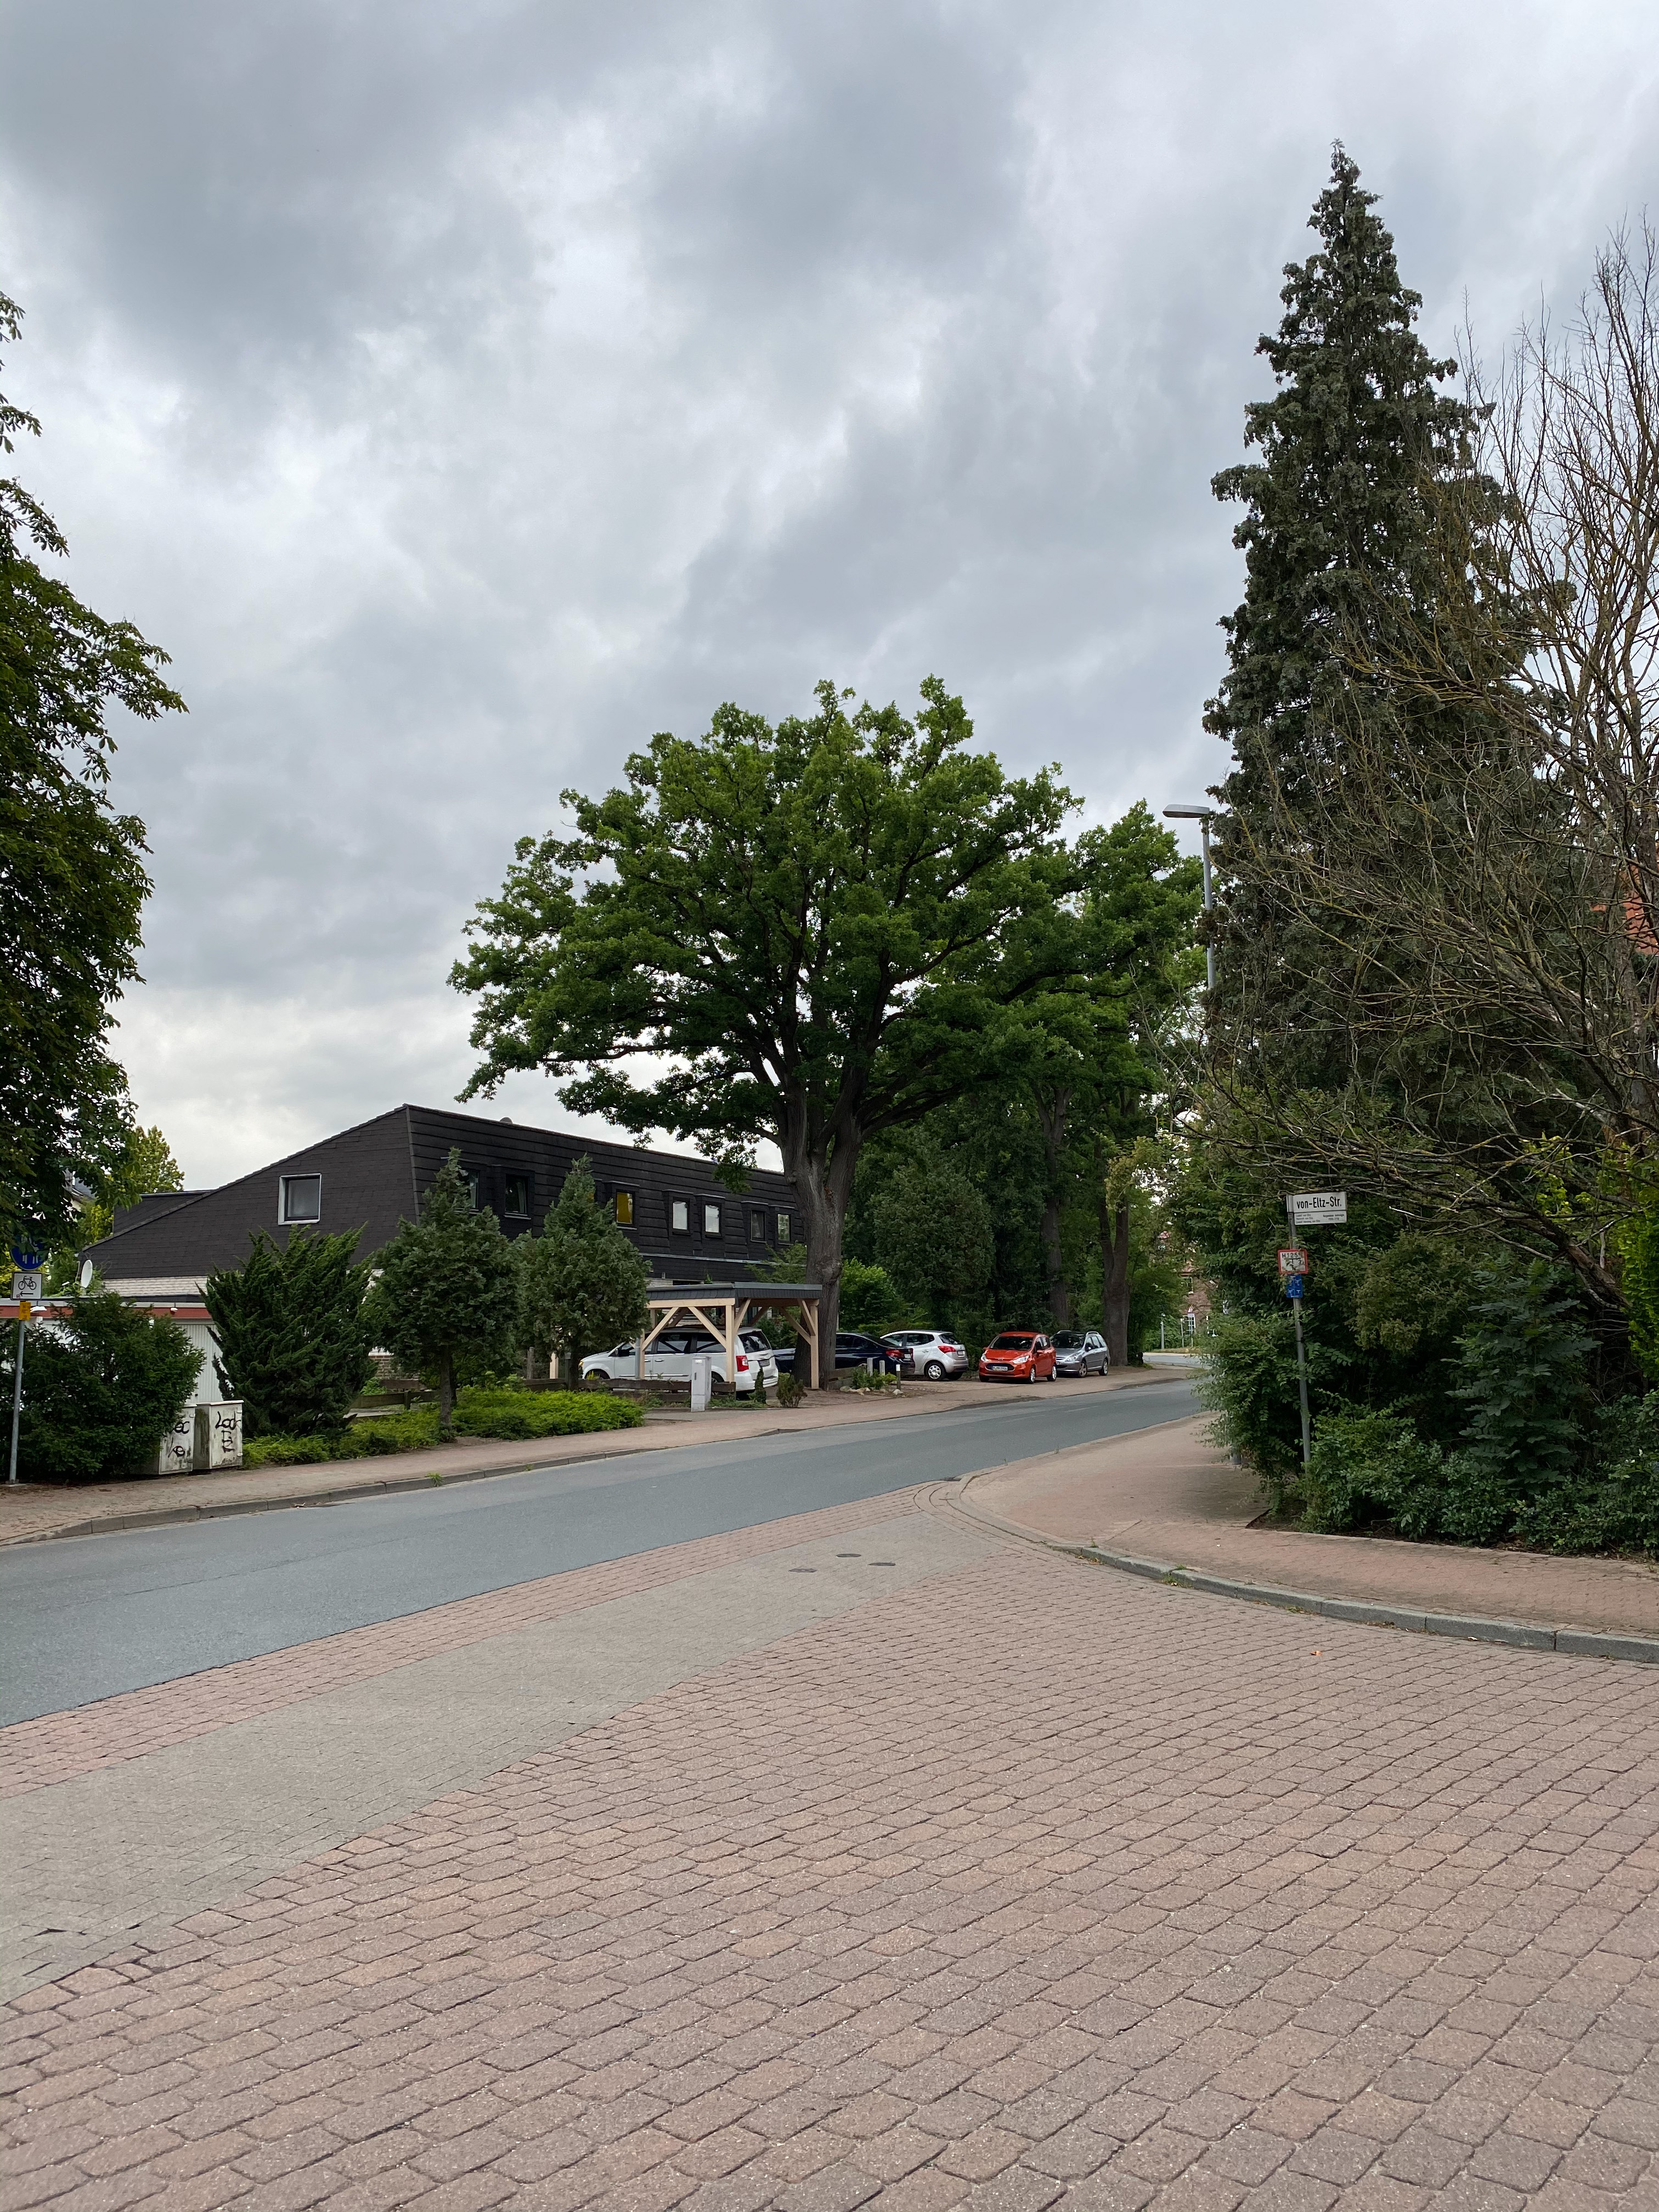tree: (1183, 139, 1633, 1505), (1127, 204, 1659, 1352), (450, 672, 1140, 1395), (0, 291, 190, 1259), (1028, 798, 1225, 1367), (972, 904, 1112, 1329), (356, 1146, 523, 1430), (509, 1153, 653, 1392), (91, 1125, 185, 1244)
